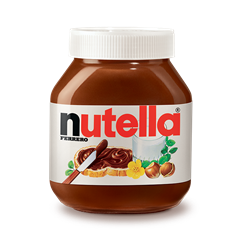nutella: (49, 28, 192, 215)
